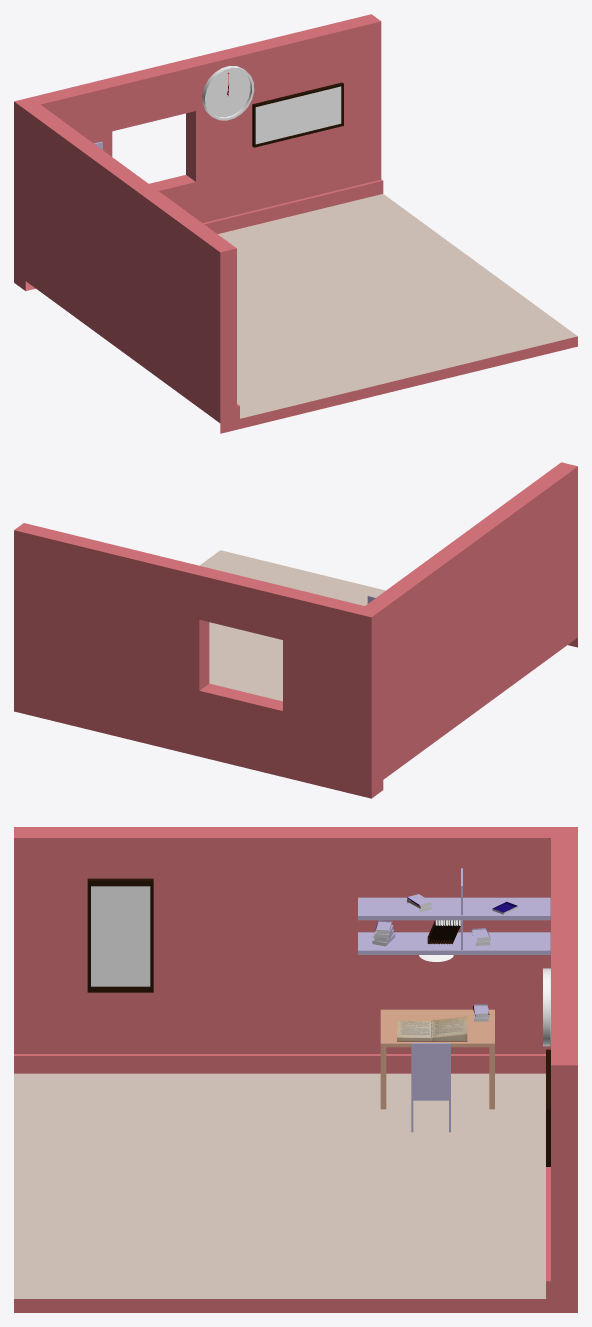
The model's file is room.glb.
3 renders of one model, top to bottom at view 1: azimuth 30°, elevation 25°; view 2: azimuth 150°, elevation 25°; view 3: azimuth 270°, elevation 25°, orthographic. The views are drawn at different scales.
Visible parts, largest first — view 1: room, Floor_Flakes, Circle.016; view 2: room, Floor_Flakes; view 3: room, Floor_Flakes, Floor_Base, BOOK', Circle.016.
Boxes of the visible parts, x1=… form: room: x1=14, y1=14, x2=577, y2=433; Floor_Flakes: x1=218, y1=194, x2=577, y2=418; Circle.016: x1=202, y1=66, x2=254, y2=120; room: x1=14, y1=462, x2=577, y2=798; Floor_Flakes: x1=199, y1=550, x2=385, y2=701; room: x1=14, y1=827, x2=577, y2=1312; Floor_Flakes: x1=14, y1=1073, x2=545, y2=1298; Floor_Base: x1=411, y1=1043, x2=450, y2=1132; BOOK': x1=397, y1=1016, x2=467, y2=1041; Circle.016: x1=543, y1=968, x2=550, y2=1046.
Bounding box in the file's own units: 16 × 7.75 × 16.
Materials: 18 (1 with a texture image).
